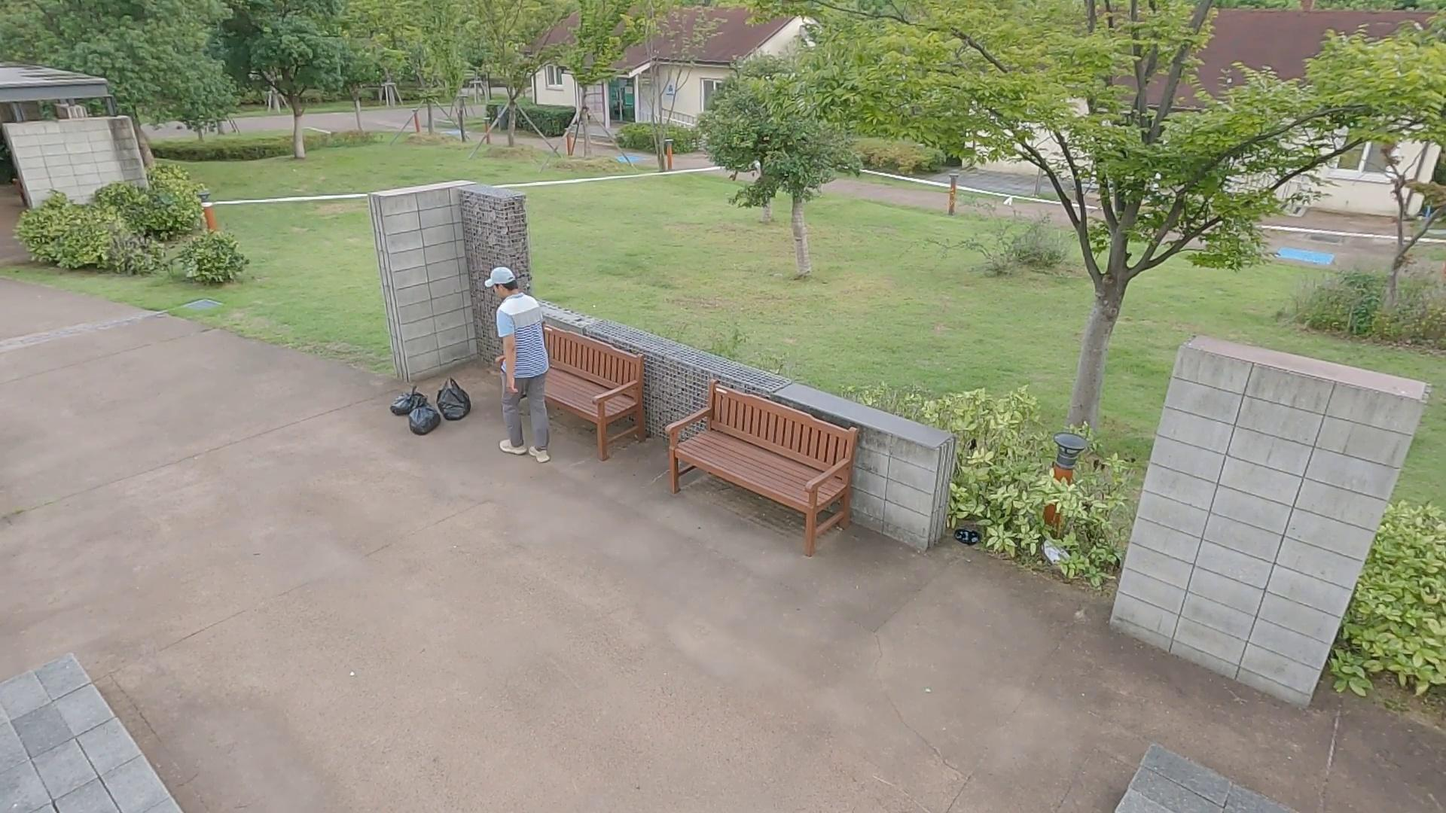person: (483, 267, 555, 464)
trash: (436, 377, 473, 420), (392, 384, 428, 418), (410, 400, 441, 434), (1041, 539, 1073, 568), (954, 525, 983, 548)
